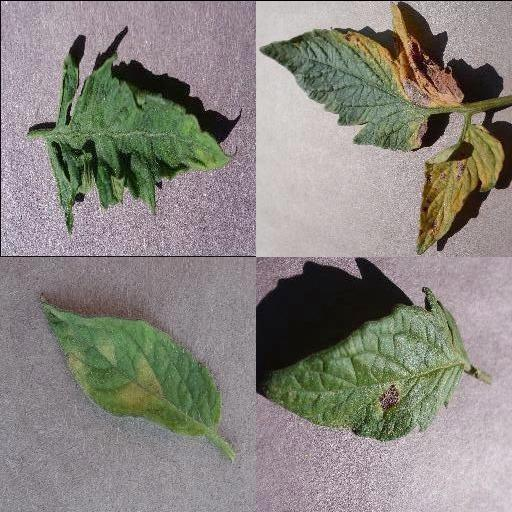Early Blight: (262, 284, 472, 441), (258, 0, 466, 151)
Leaf Mold: (40, 296, 222, 435)
Mosaic Virus: (47, 47, 237, 235)
